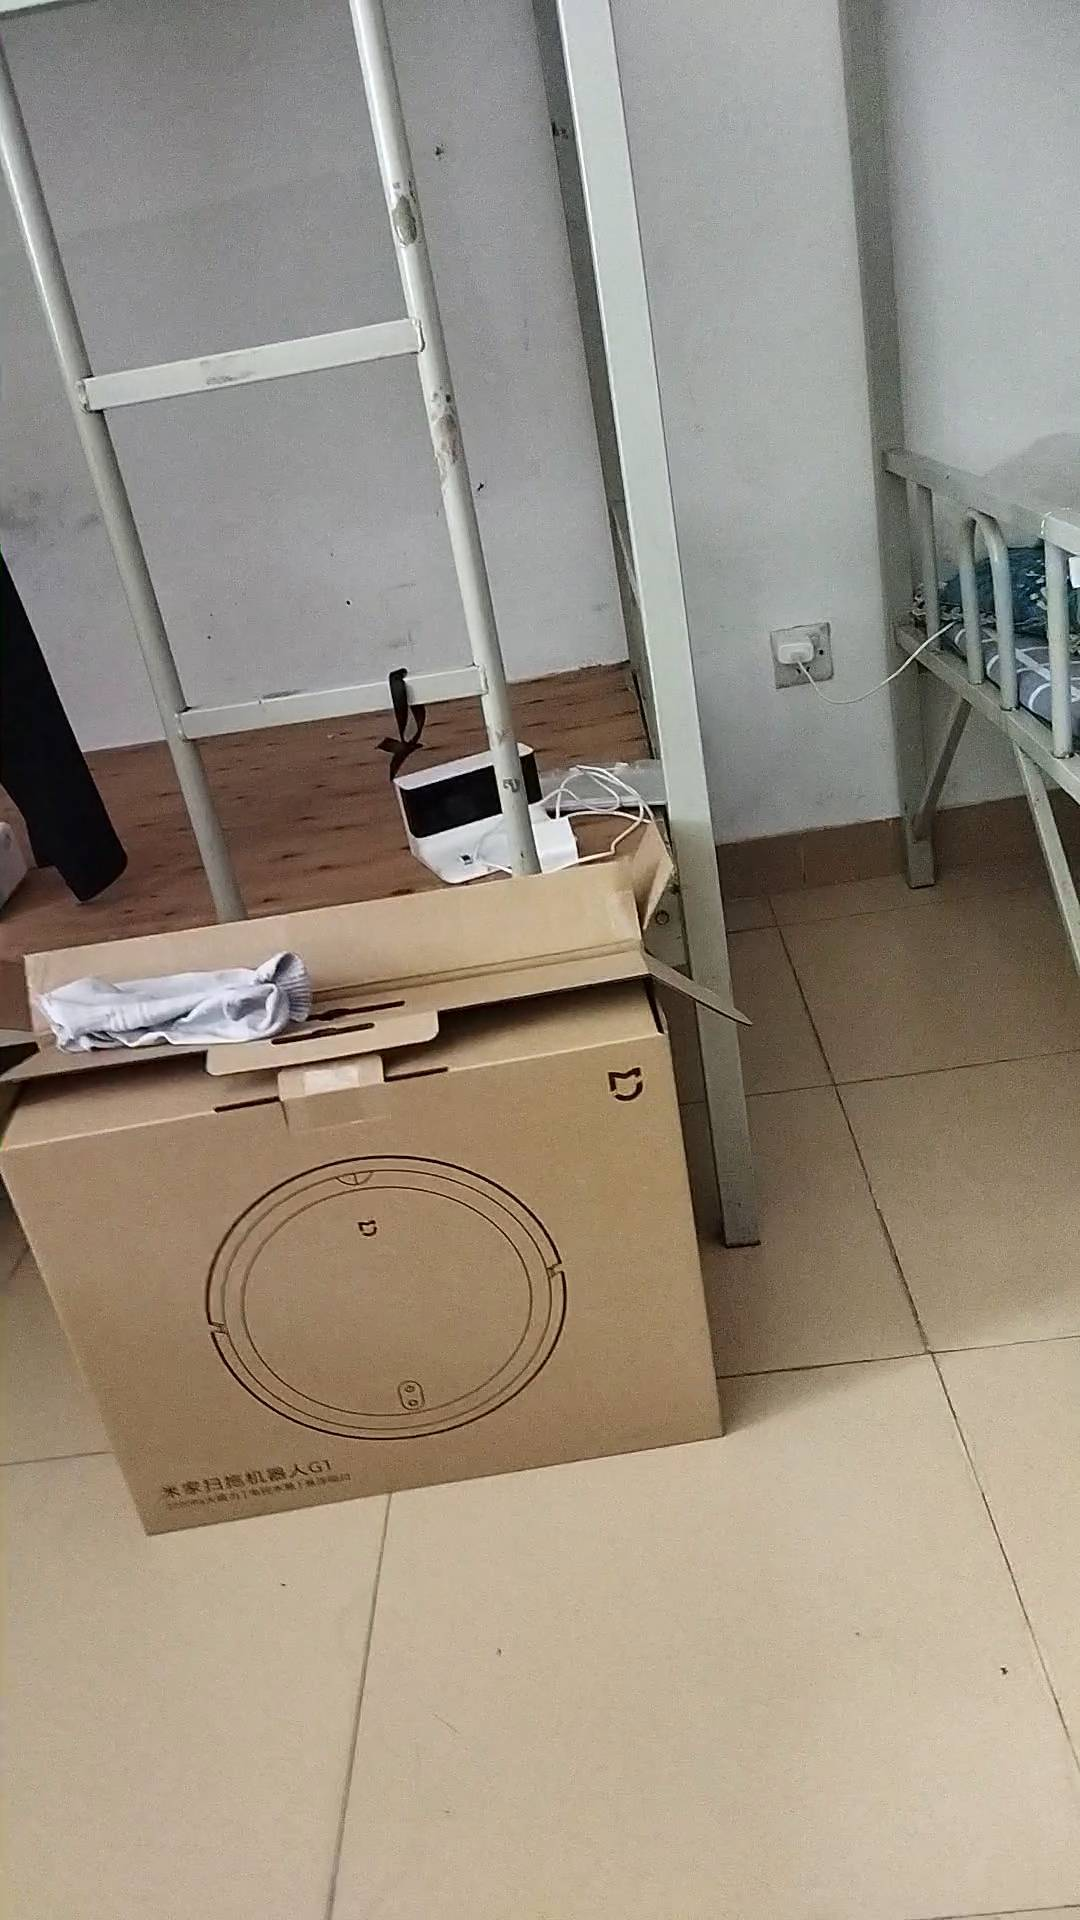recharge seat: (393, 745, 560, 880)
